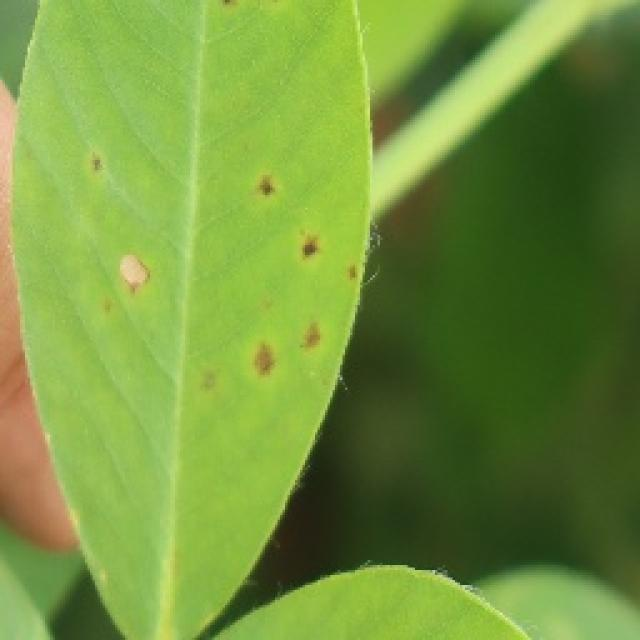Early_leaf_spot: (99, 228, 157, 315), (231, 149, 291, 218), (62, 128, 119, 179)
